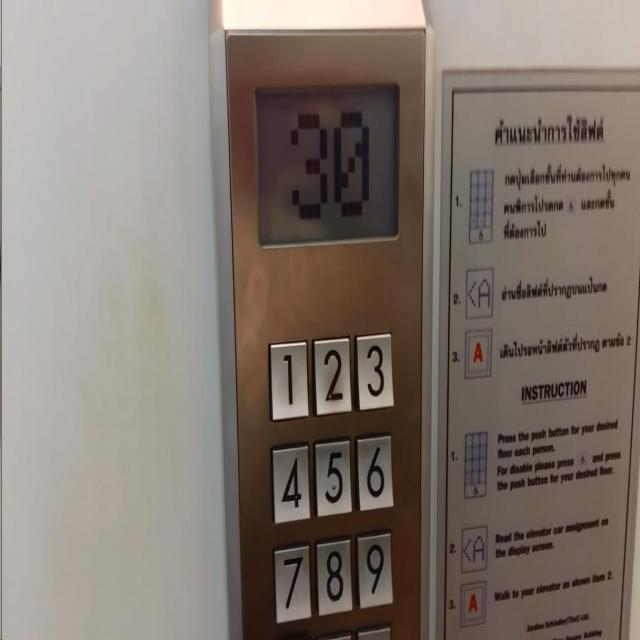1: (266, 336, 310, 422)
2: (310, 333, 352, 416)
3: (353, 330, 394, 411)
4: (269, 439, 310, 523)
5: (311, 434, 352, 517)
6: (354, 430, 394, 512)
7: (271, 539, 312, 624)
8: (313, 532, 353, 616)
9: (354, 527, 393, 608)
led: (253, 80, 402, 251)
